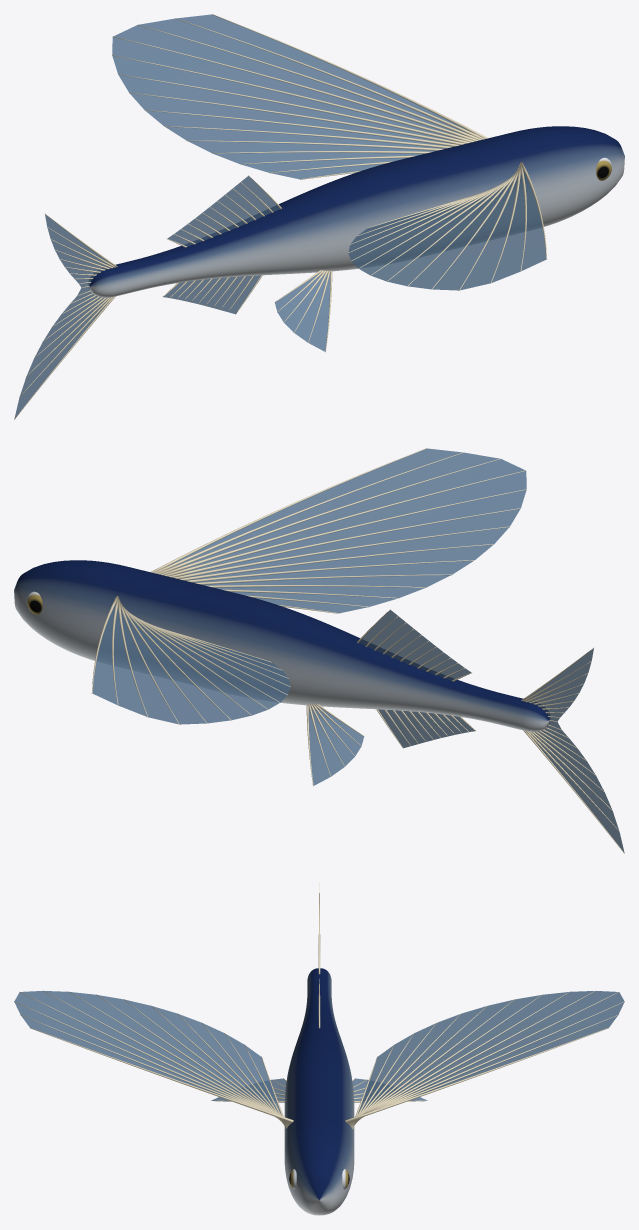
Rendered from flying-fish-dev.glb.
3 views of the same model, one above another, from view 1: azimuth 30°, elevation 25°; view 2: azimuth 150°, elevation 25°; view 3: azimuth 270°, elevation 25° (orthographic). The views are drawn at different scales.
Visible parts, largest first — view 1: skin_R, pectoral_fin_L, pectoral_fin_R, caudal_fin, dorsal_fin, pelvic_fin_R, skin_L, anal_fin, caudal_fin_rays, pectoral_fin_ray_L_04, pectoral_fin_ray_L_05, pectoral_fin_ray_L_03 (+9 smaller); view 2: skin_L, pectoral_fin_R, pectoral_fin_L, caudal_fin, dorsal_fin, pelvic_fin_L, skin_R, anal_fin, caudal_fin_rays, pectoral_fin_ray_R_04, pectoral_fin_ray_R_05, pectoral_fin_ray_R_03 (+9 smaller); view 3: pectoral_fin_L, pectoral_fin_R, skin_L, skin_R, pectoral_fin_ray_L_01, pectoral_fin_ray_R_01, pectoral_fin_ray_L_03, pectoral_fin_ray_R_03, pectoral_fin_ray_L_04, pectoral_fin_ray_R_04.
Part boxes in pixels (<box>): skin_R: <box>89,129,624,297</box>; pectoral_fin_L: <box>112,14,470,179</box>; pectoral_fin_R: <box>348,170,546,290</box>; caudal_fin: <box>14,214,110,418</box>; dorsal_fin: <box>167,176,279,246</box>; pelvic_fin_R: <box>274,272,330,351</box>; skin_L: <box>89,126,610,288</box>; anal_fin: <box>164,275,260,314</box>; caudal_fin_rays: <box>14,213,117,419</box>; pectoral_fin_ray_L_04: <box>112,36,477,141</box>; pectoral_fin_ray_L_05: <box>112,55,474,142</box>; pectoral_fin_ray_L_03: <box>138,24,481,140</box>; skin_L: <box>14,563,549,731</box>; pectoral_fin_R: <box>168,448,526,613</box>; pectoral_fin_L: <box>92,604,290,724</box>; caudal_fin: <box>528,648,624,852</box>; dorsal_fin: <box>359,610,471,680</box>; pelvic_fin_L: <box>308,706,364,785</box>; skin_R: <box>28,560,549,722</box>; anal_fin: <box>378,709,474,748</box>; caudal_fin_rays: <box>521,647,624,853</box>; pectoral_fin_ray_R_04: <box>161,470,526,575</box>; pectoral_fin_ray_R_05: <box>164,489,526,576</box>; pectoral_fin_ray_R_03: <box>157,458,500,574</box>; pectoral_fin_L: <box>358,991,624,1113</box>; pectoral_fin_R: <box>14,991,280,1113</box>; skin_L: <box>319,968,354,1215</box>; skin_R: <box>284,968,319,1215</box>; pectoral_fin_ray_L_01: <box>345,1028,608,1122</box>; pectoral_fin_ray_R_01: <box>30,1028,293,1122</box>; pectoral_fin_ray_L_03: <box>348,1001,624,1123</box>; pectoral_fin_ray_R_03: <box>14,1001,290,1123</box>; pectoral_fin_ray_L_04: <box>348,992,619,1123</box>; pectoral_fin_ray_R_04: <box>19,992,290,1123</box>.
Size of the model in its own units: 0.9725 by 0.3027 by 0.9743.
